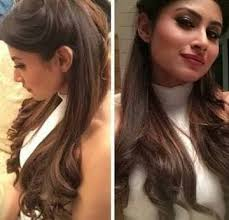indian_female: (128, 1, 229, 102)
